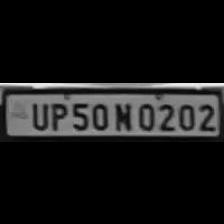0: (88, 99, 110, 129), (133, 99, 155, 129), (175, 100, 195, 130)
2: (154, 99, 176, 131), (196, 99, 216, 131)
5: (67, 98, 89, 130)
N: (110, 98, 132, 130)
P: (47, 99, 67, 129)
U: (27, 99, 50, 129)
